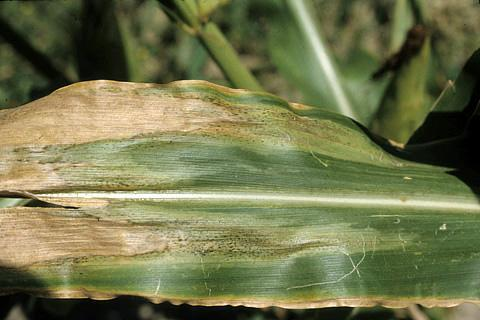Corn_Blight: (2, 67, 435, 172), (2, 181, 429, 269), (17, 286, 480, 316)
